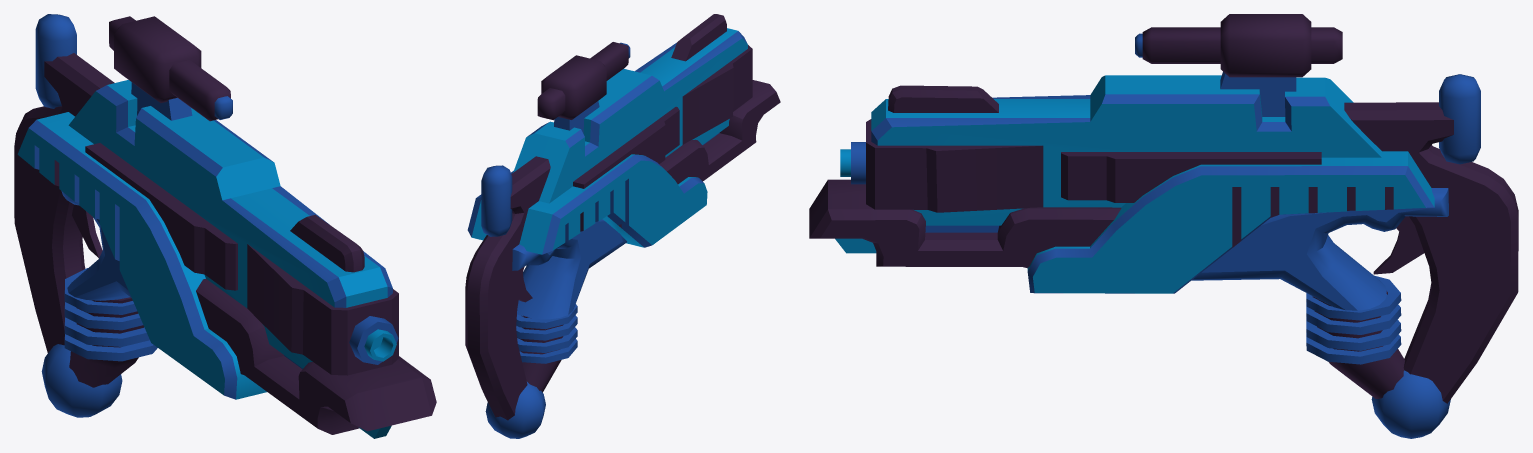
Rendered from toon_weapon.fbx.
3 renders of one model, left to right at view 1: azimuth 30°, elevation 25°; view 2: azimuth 150°, elevation 25°; view 3: azimuth 270°, elevation 25°, orthographic. The views are drawn at different scales.
Parts seen in each view (by area): view 1: Gun 11; view 2: Gun 11; view 3: Gun 11.
Boxes of the visible parts, x1,y1,x2,y2 form: Gun 11: (14, 14, 436, 438); Gun 11: (465, 14, 780, 438); Gun 11: (809, 14, 1518, 438).
Bounding box in the file's own units: 25.29 × 92.74 × 144.
